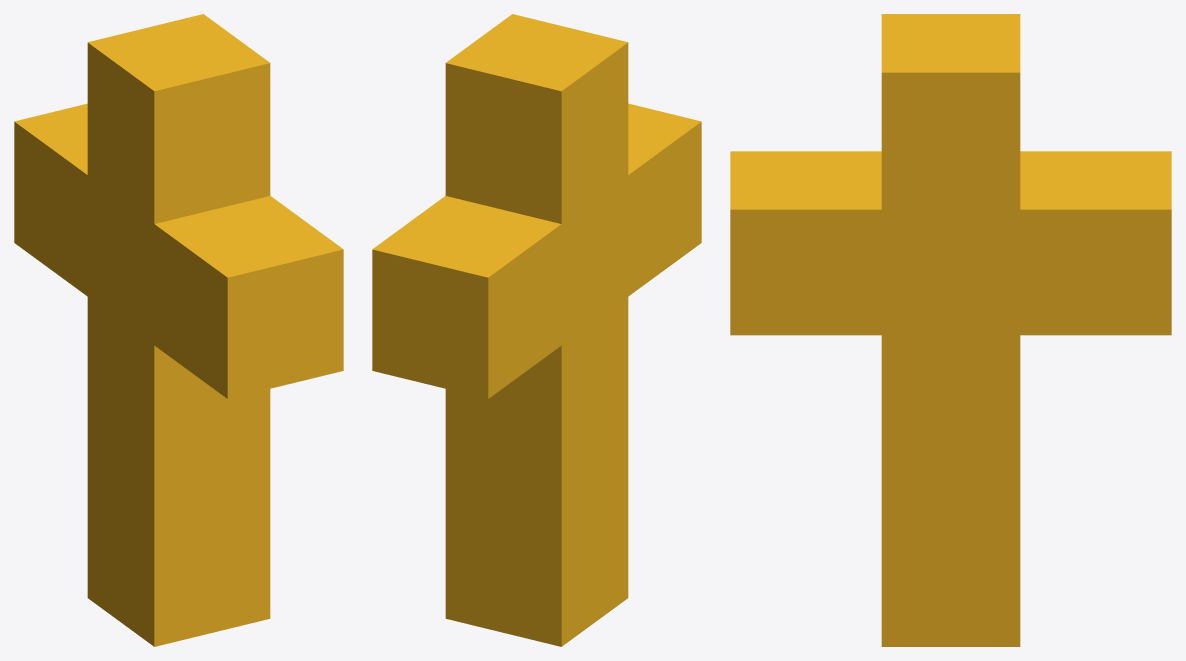
Rendered from creuD'or.fbx.
3 views of the same model, side by side, from view 1: azimuth 30°, elevation 25°; view 2: azimuth 150°, elevation 25°; view 3: azimuth 270°, elevation 25° (orthographic). The views are drawn at different scales.
Visible parts, largest first — view 1: Cube; view 2: Cube; view 3: Cube.
Boxes of the visible parts, <box> form: Cube: <box>14,14,343,646</box>; Cube: <box>372,14,701,646</box>; Cube: <box>730,14,1171,646</box>.
Bounding box in the file's own units: 200 × 915 × 638.
